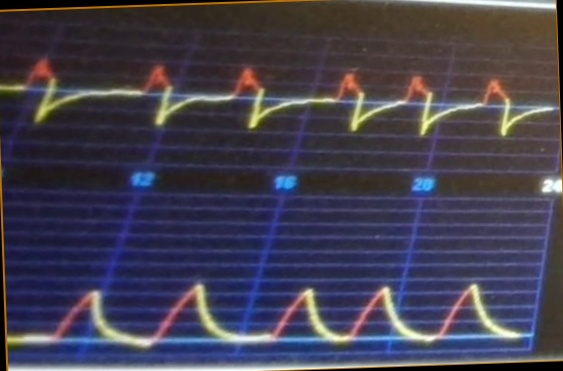Accumulation Flow: (1, 51, 552, 157)
Volume: (8, 262, 522, 358)
